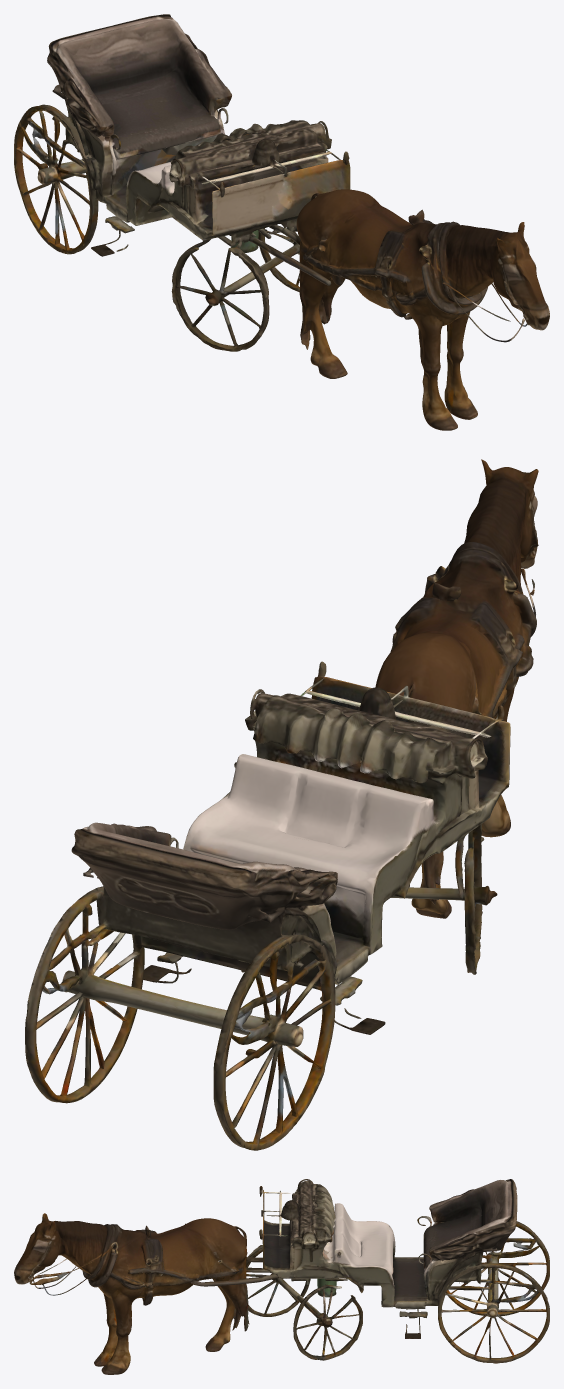
Rendered from carreta.fbx.
3 views of the same model, one above another, from view 1: azimuth 30°, elevation 25°; view 2: azimuth 150°, elevation 25°; view 3: azimuth 270°, elevation 25° (orthographic). The views are drawn at different scales.
Visible parts, largest first — view 1: tripo_node_f7b9e0be; view 2: tripo_node_f7b9e0be; view 3: tripo_node_f7b9e0be.
Part boxes in pixels (x1,y1,x2,y2): tripo_node_f7b9e0be: (14, 14, 549, 430); tripo_node_f7b9e0be: (25, 459, 538, 1150); tripo_node_f7b9e0be: (14, 1179, 549, 1374).
Size of the model in its own units: 0.2904 by 0.327 by 1.
Materials: 1 (1 with a texture image).
